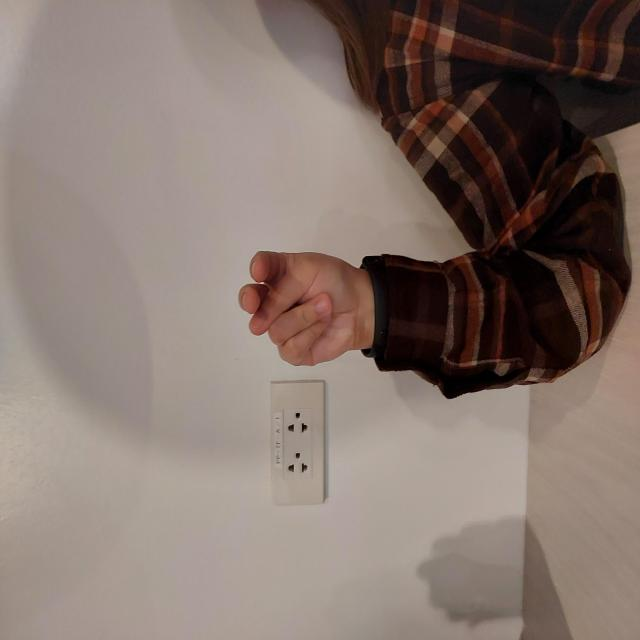N: (272, 234, 392, 366)
